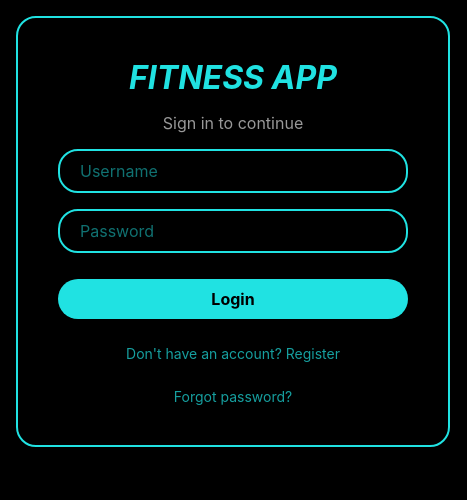
Test: LoginPage › shows error if server connection fails during login step 1
Type "u" into the field with placeholder "Username" at (233, 171), box [58, 149, 408, 193]
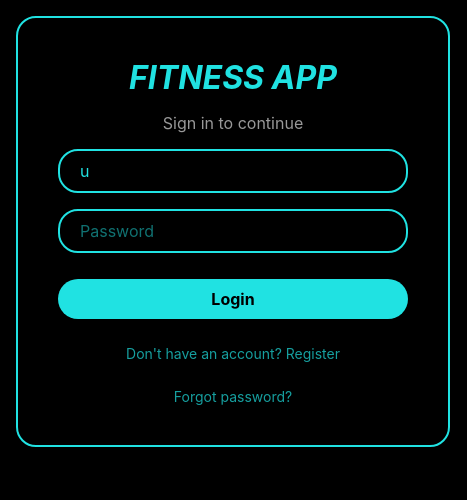
Type "p" into the password field with placeholder "Password" at (233, 231), box [58, 209, 408, 253]
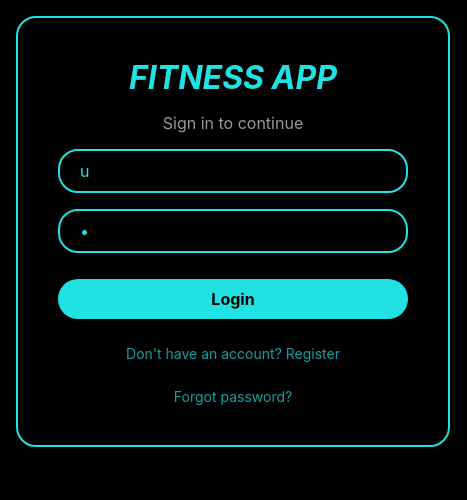
Click the button "Login" at (233, 299), box [58, 279, 408, 319]
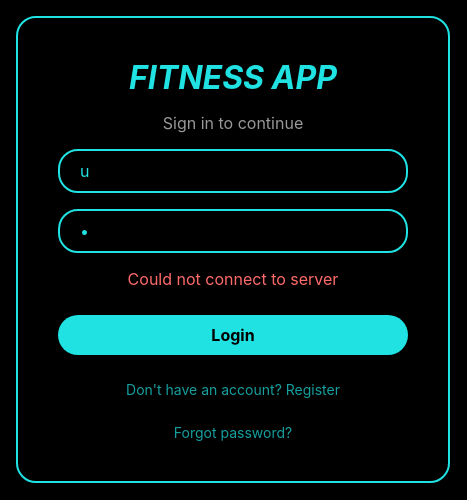
Expected: the text "Could not connect to server" is shown, [128, 269, 338, 289]
